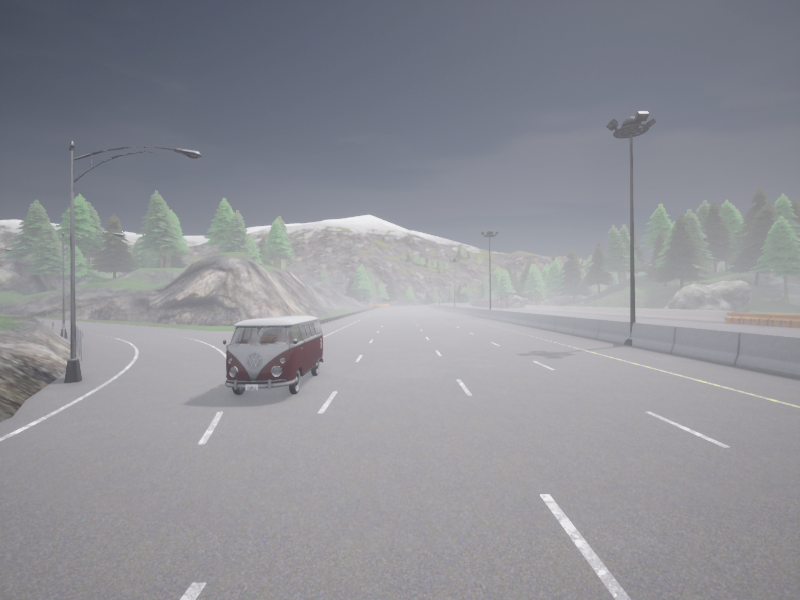vehicle: (223, 316, 323, 394), (470, 302, 472, 304)
